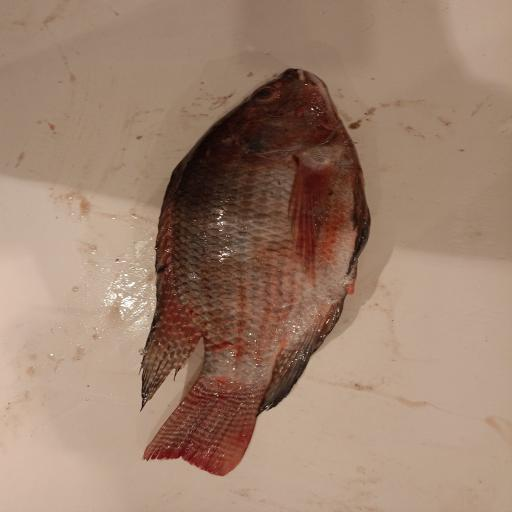Tilapia: (139, 68, 372, 477)
